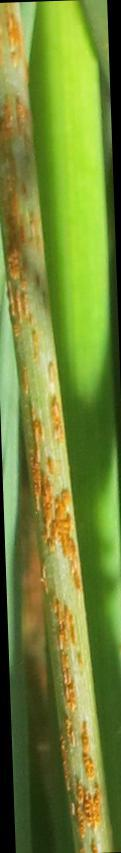Wheat: (0, 1, 57, 392), (46, 593, 116, 853), (19, 389, 86, 590)
